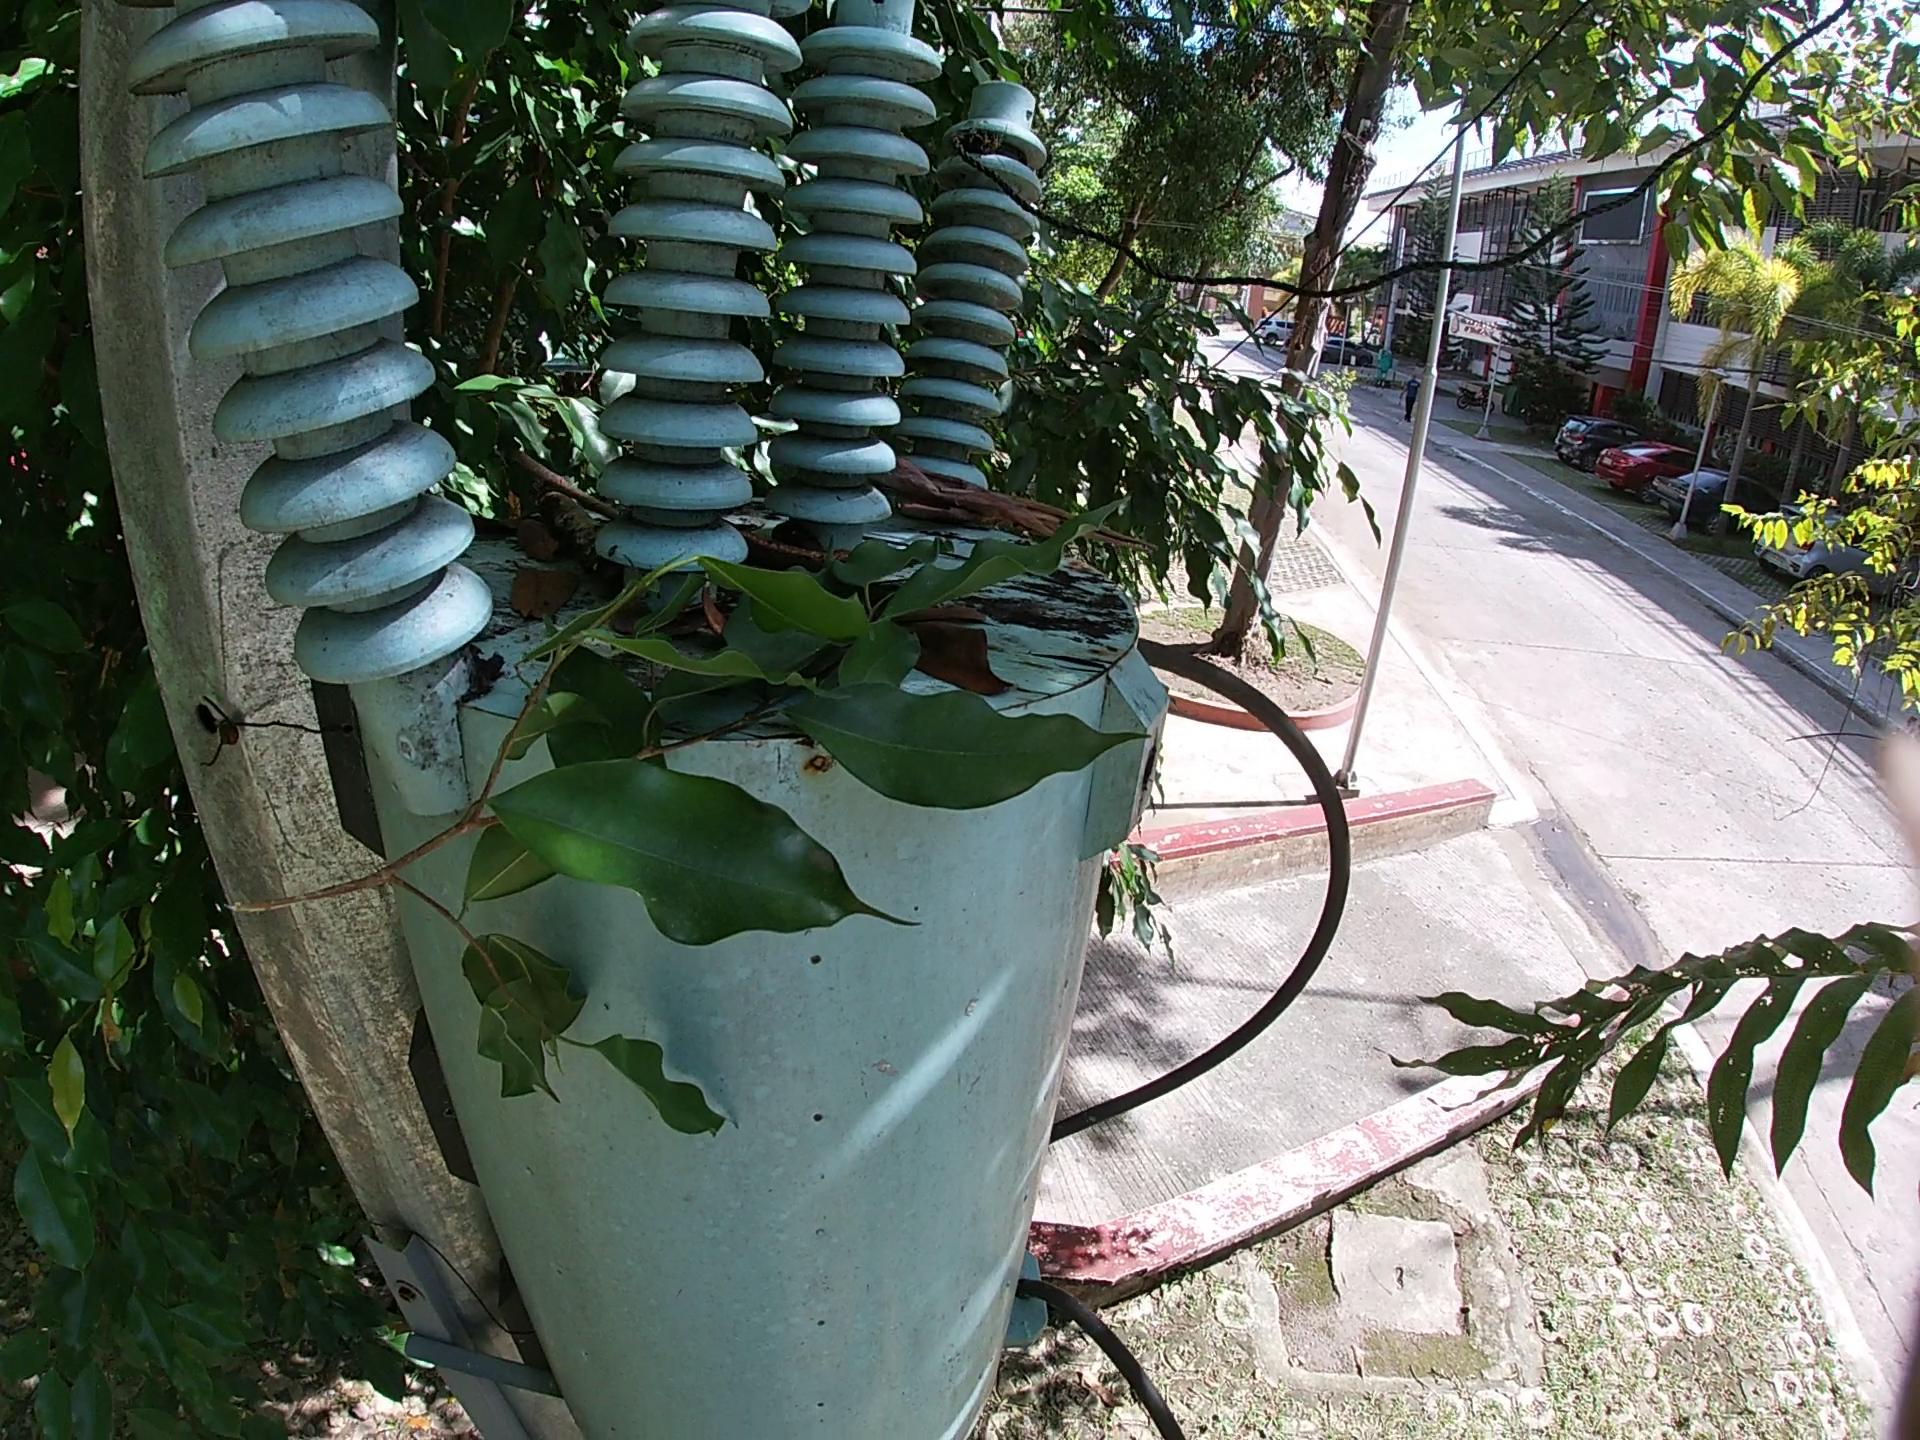branch with leaves: (221, 495, 1157, 1142)
leaf: (897, 617, 1020, 699), (503, 557, 581, 631), (508, 511, 571, 573), (898, 599, 1002, 631)
mahogany fruit: (739, 534, 856, 573), (698, 576, 730, 640)
tree branch: (877, 454, 1166, 566), (503, 446, 615, 517)
